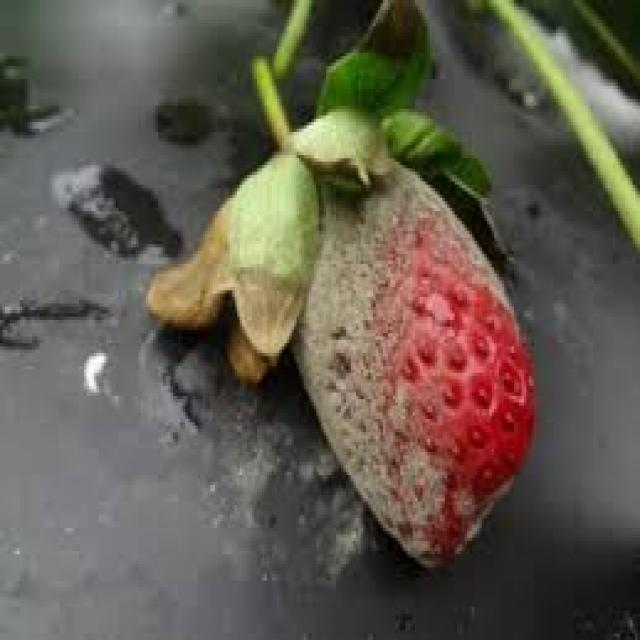Moho gris: (274, 137, 534, 557)
